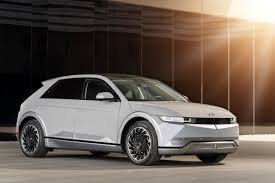Honda Ioniq: (11, 65, 249, 169)
